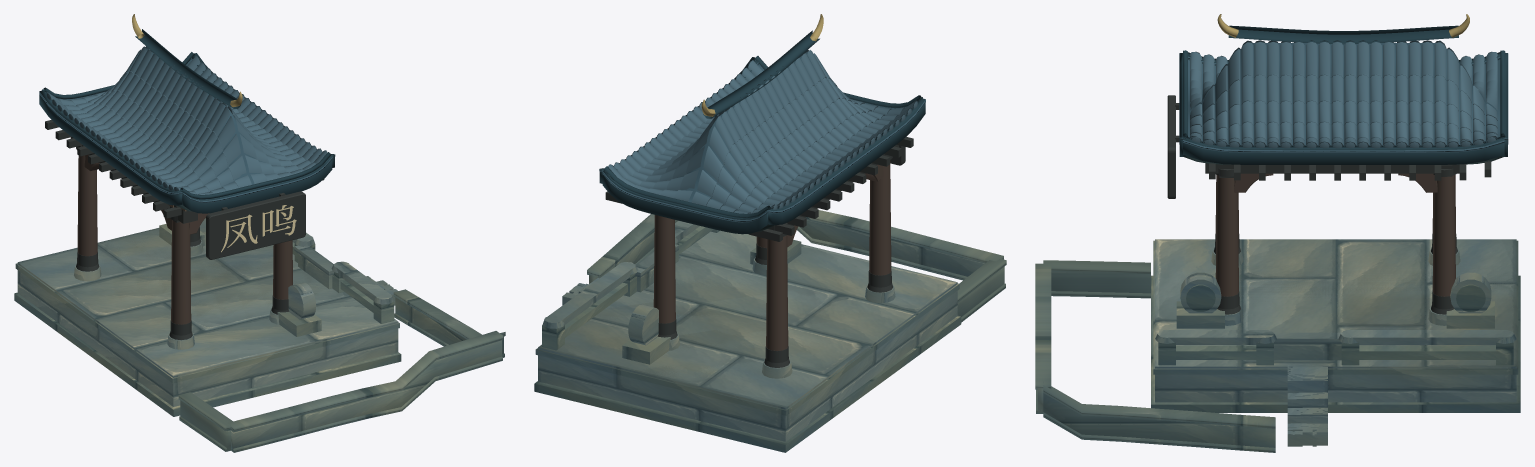
The model's file is gate-h34.glb.
3 views of the same model, side by side, from view 1: azimuth 30°, elevation 25°; view 2: azimuth 150°, elevation 25°; view 3: azimuth 270°, elevation 25° (orthographic). The views are drawn at different scales.
Parts seen in each view (by area): view 1: H34 clean painted platform, stone wings and exact stairs, H34 quiet cool-grey barrel-tiled roofs, H34 thick ink eaves and grounded framework, H34 old bronze and readable name board; view 2: H34 clean painted platform, stone wings and exact stairs, H34 quiet cool-grey barrel-tiled roofs, H34 thick ink eaves and grounded framework; view 3: H34 clean painted platform, stone wings and exact stairs, H34 quiet cool-grey barrel-tiled roofs, H34 thick ink eaves and grounded framework.
Part boxes in pixels (x1,y1,x2,y2): H34 clean painted platform, stone wings and exact stairs: (14, 218, 505, 452); H34 quiet cool-grey barrel-tiled roofs: (39, 46, 335, 202); H34 thick ink eaves and grounded framework: (39, 29, 334, 340); H34 old bronze and readable name board: (132, 14, 296, 252); H34 clean painted platform, stone wings and exact stairs: (534, 209, 1006, 452); H34 quiet cool-grey barrel-tiled roofs: (599, 50, 925, 222); H34 thick ink eaves and grounded framework: (599, 30, 925, 367); H34 clean painted platform, stone wings and exact stairs: (1035, 239, 1520, 452); H34 quiet cool-grey barrel-tiled roofs: (1179, 40, 1508, 152); H34 thick ink eaves and grounded framework: (1167, 25, 1507, 314).
Size of the model in its own units: 4.79 by 4.56 by 6.04.
Materials: 4 (2 with a texture image).
